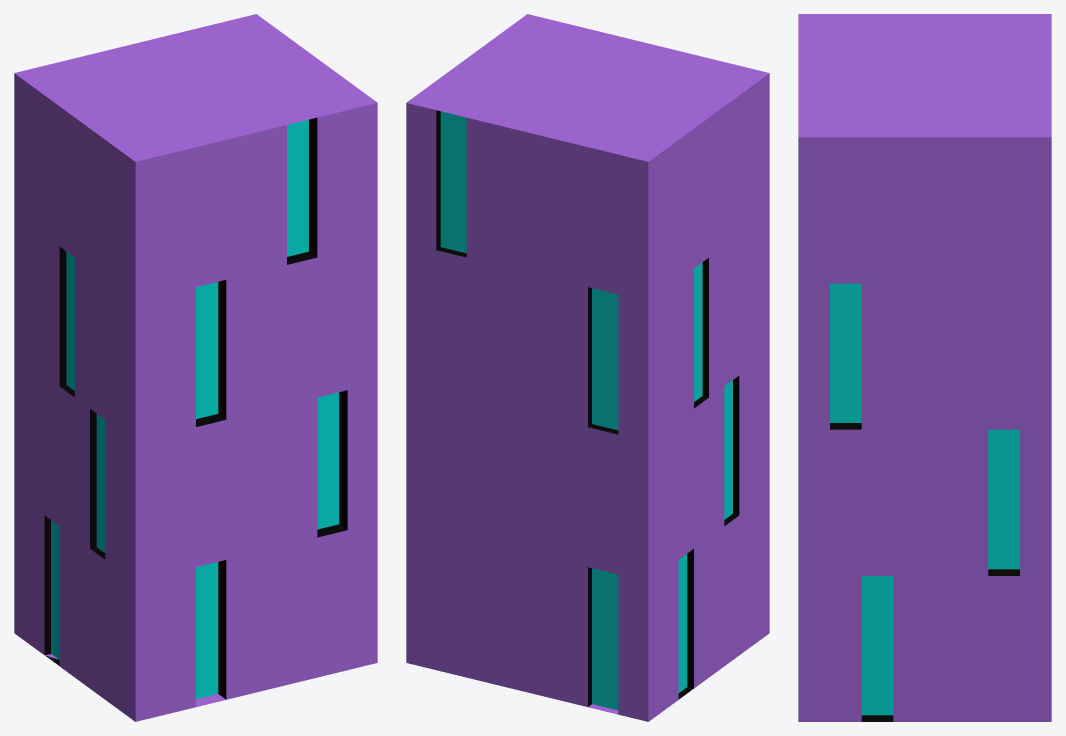
Rendered from building 9 (pink).fbx.
The picture shows the model from 3 angles, left to right: view 1: azimuth 30°, elevation 25°; view 2: azimuth 150°, elevation 25°; view 3: azimuth 270°, elevation 25°; orthographic projection. The views are drawn at different scales.
Parts seen in each view (by area): view 1: Cube; view 2: Cube; view 3: Cube.
Boxes of the visible parts, x1=… form: Cube: x1=14, y1=14, x2=377, y2=721; Cube: x1=406, y1=14, x2=769, y2=721; Cube: x1=798, y1=14, x2=1051, y2=721.
Size of the model in its own units: 524 by 1156 by 454.
